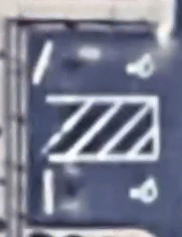Vacant: (27, 157, 157, 230), (29, 31, 157, 99)
